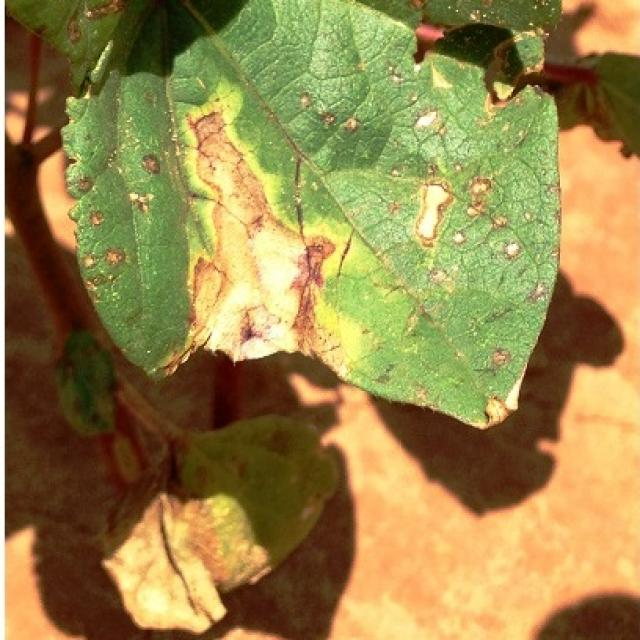Fusarium Wilt: (37, 14, 596, 444)
